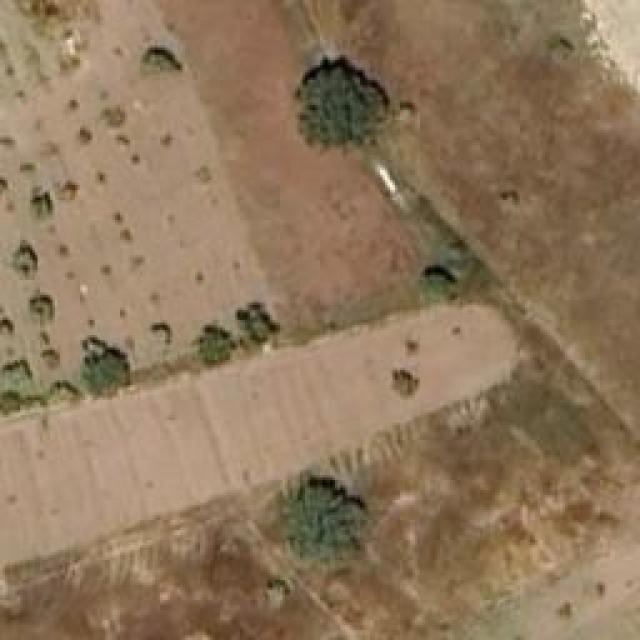Tree: (292, 58, 390, 151), (290, 480, 358, 563), (82, 347, 130, 395), (235, 300, 280, 345), (140, 48, 183, 83), (198, 325, 233, 368), (418, 268, 456, 305), (13, 243, 41, 279), (260, 578, 293, 607), (0, 355, 32, 384), (28, 292, 56, 325), (390, 370, 420, 400), (30, 188, 53, 221), (150, 323, 175, 348), (100, 108, 126, 130), (0, 315, 22, 339), (73, 125, 97, 146)
